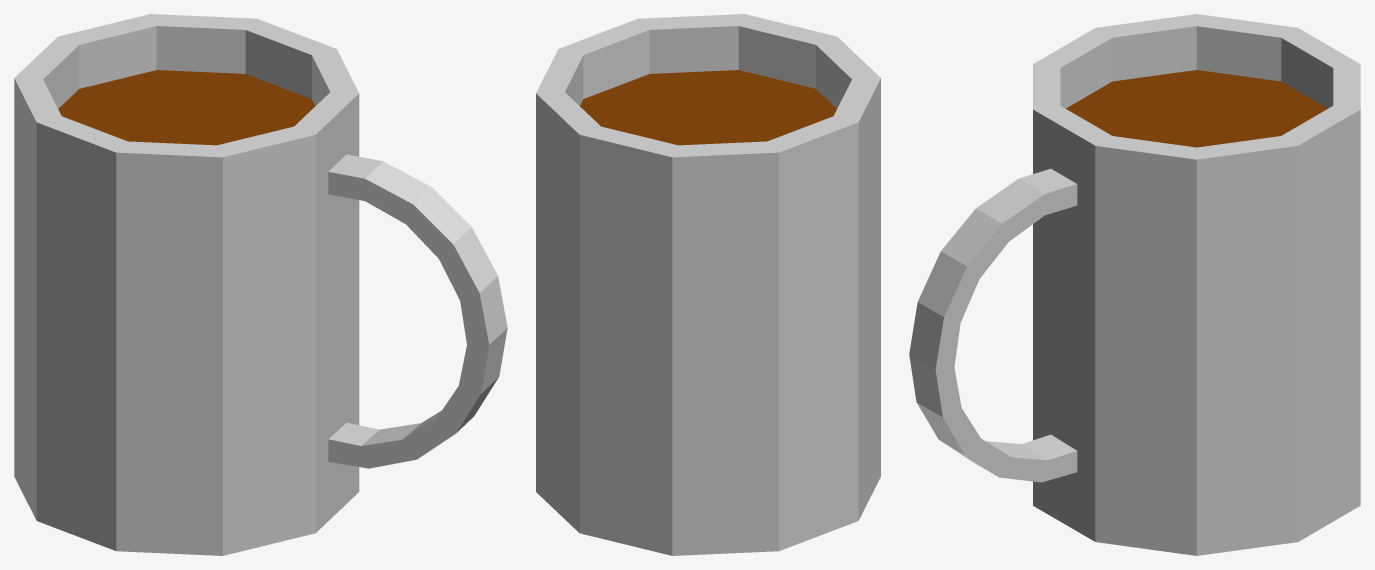
The model's file is Kaffebecher.fbx.
The picture shows the model from 3 angles, left to right: view 1: azimuth 30°, elevation 25°; view 2: azimuth 150°, elevation 25°; view 3: azimuth 270°, elevation 25°; orthographic projection.
Visible parts, largest first — view 1: Kaffetasse; view 2: Kaffetasse; view 3: Kaffetasse.
Boxes of the visible parts, box(x1,y1,x2,y2) form: Kaffetasse: box(14, 14, 507, 555); Kaffetasse: box(536, 14, 880, 555); Kaffetasse: box(909, 14, 1360, 555).
Bounding box in the file's own units: 226 × 254 × 262.
